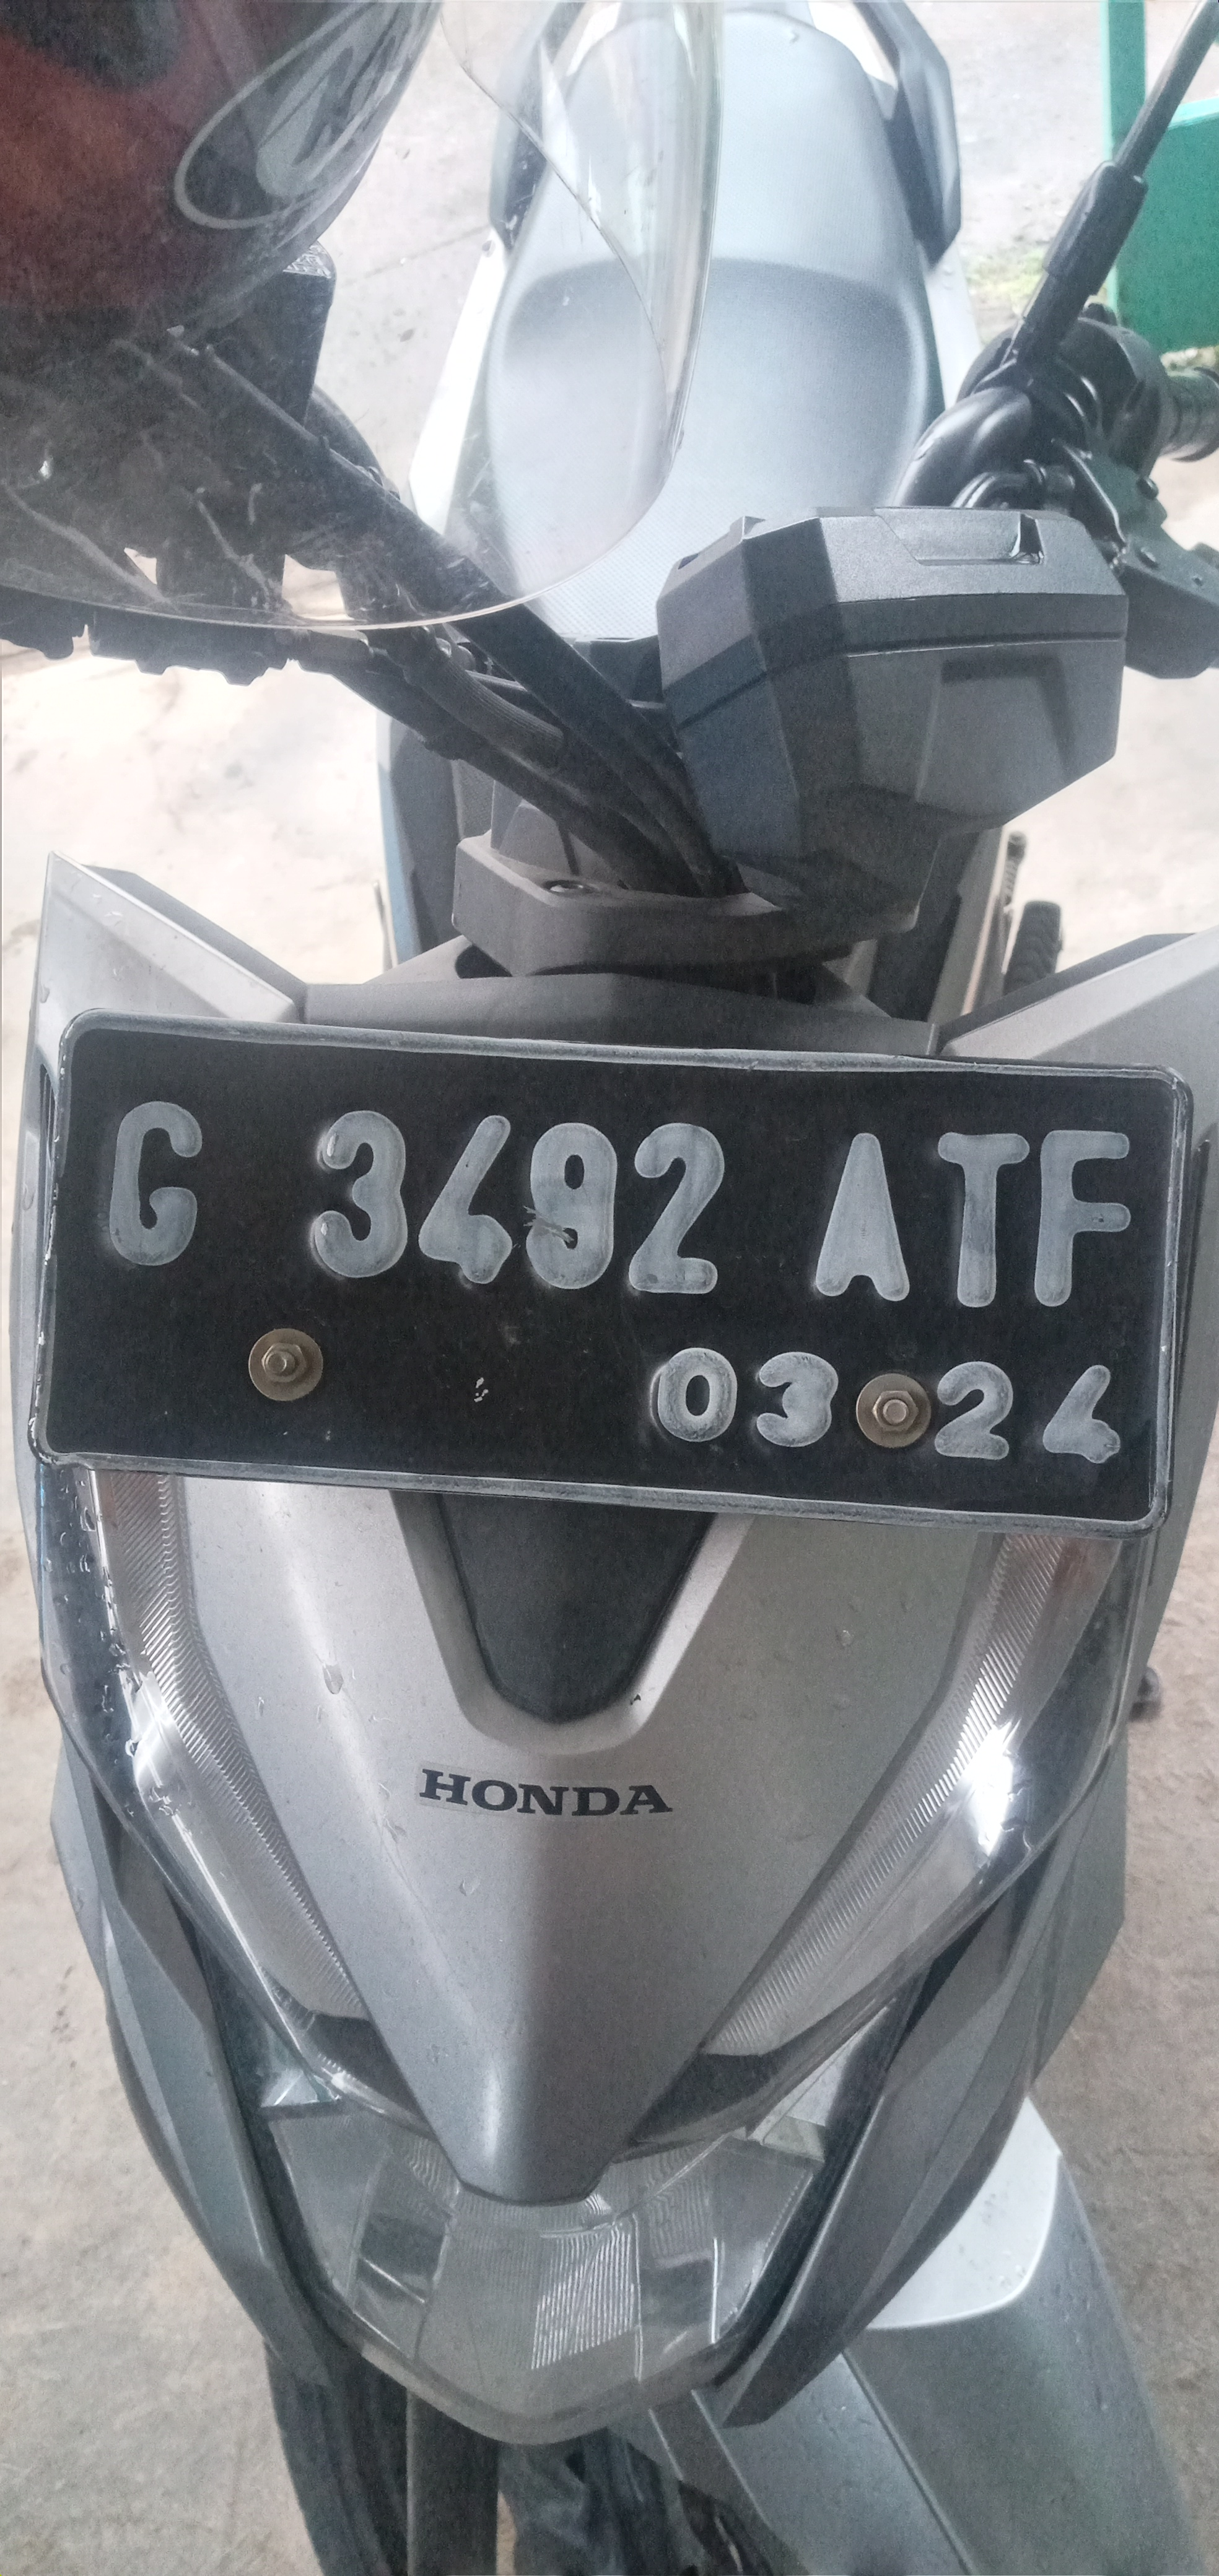plat_nomor: (4, 952, 1219, 1596)
